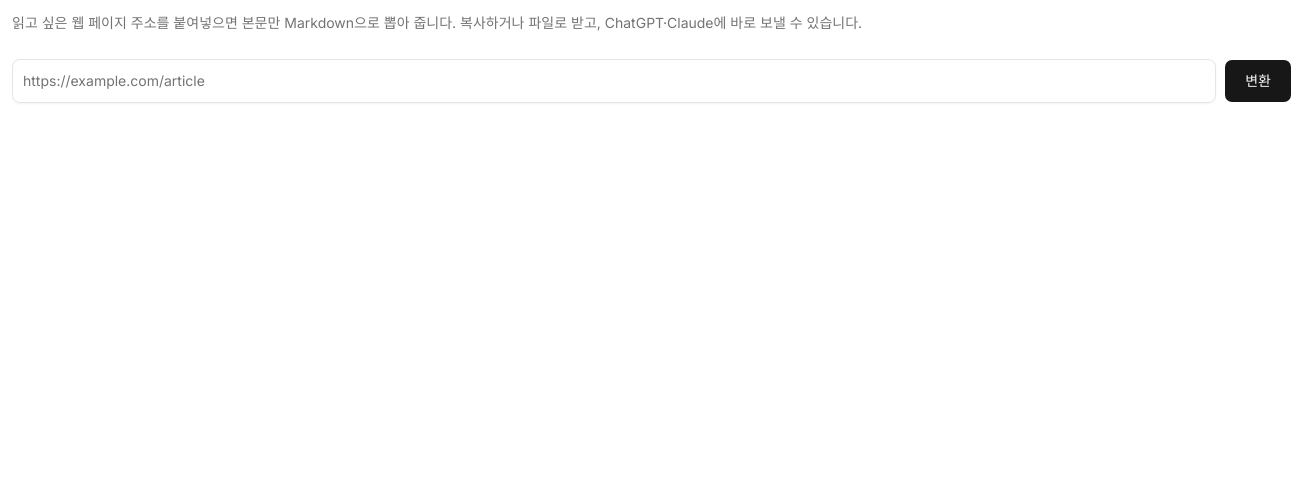
Test: 프리셋을 고르고 ChatGPT로 열기를 누르면 프롬프트+본문을 복사하고 ?q=로 새 탭을 연다
Later steps or results of the test are not shown.
Type "https://example.com/a" into the field named "웹 페이지 URL" at (614, 81), box [12,59,1216,103]
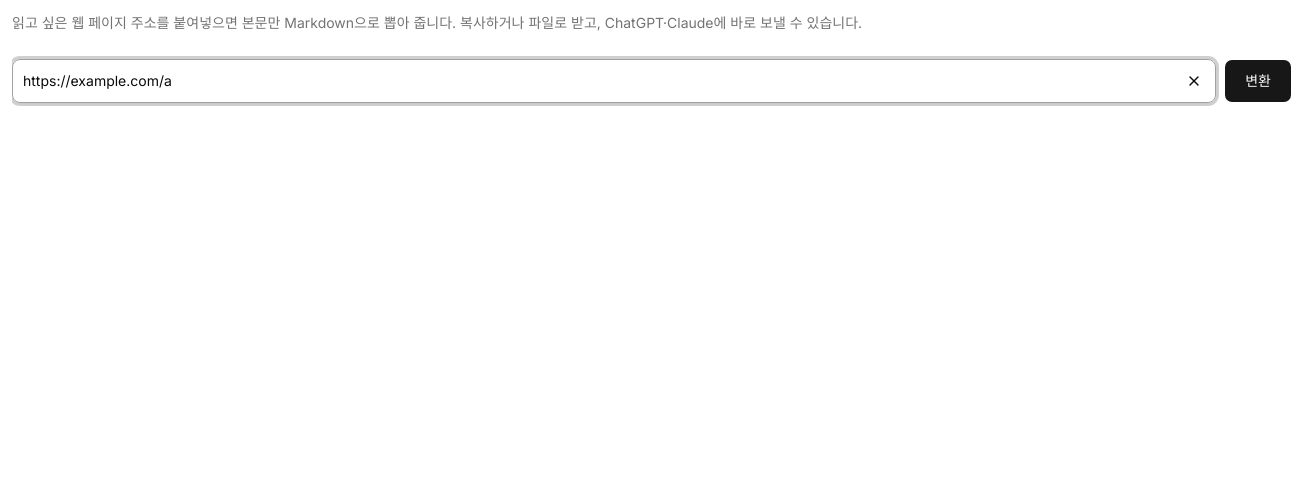
Click the button "변환" at (1258, 81), box [1224,59,1292,103]
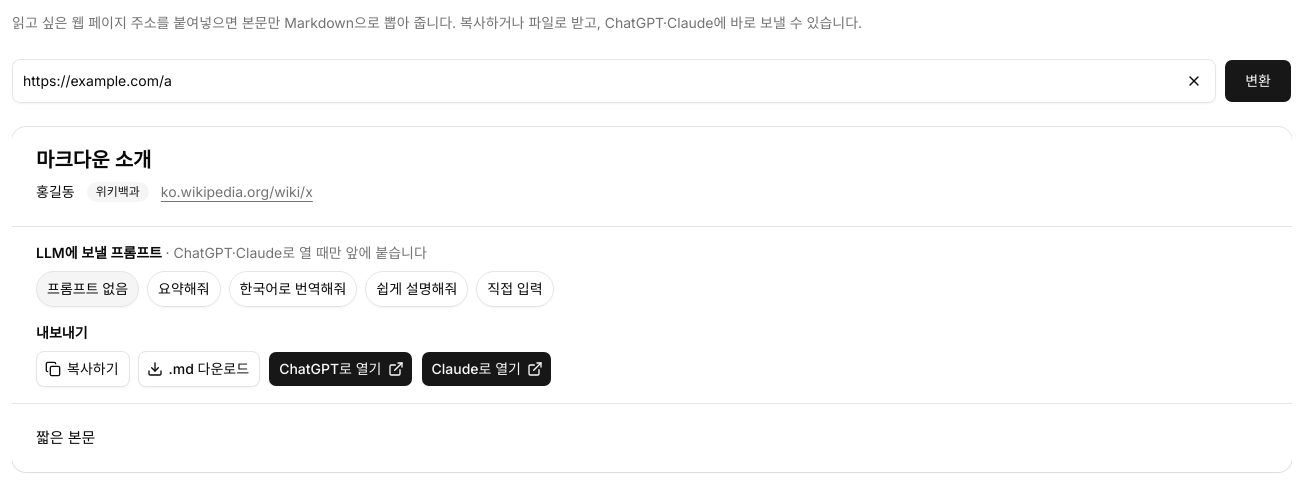
expect the element that starts with "마크다운 소개" is shown: met
